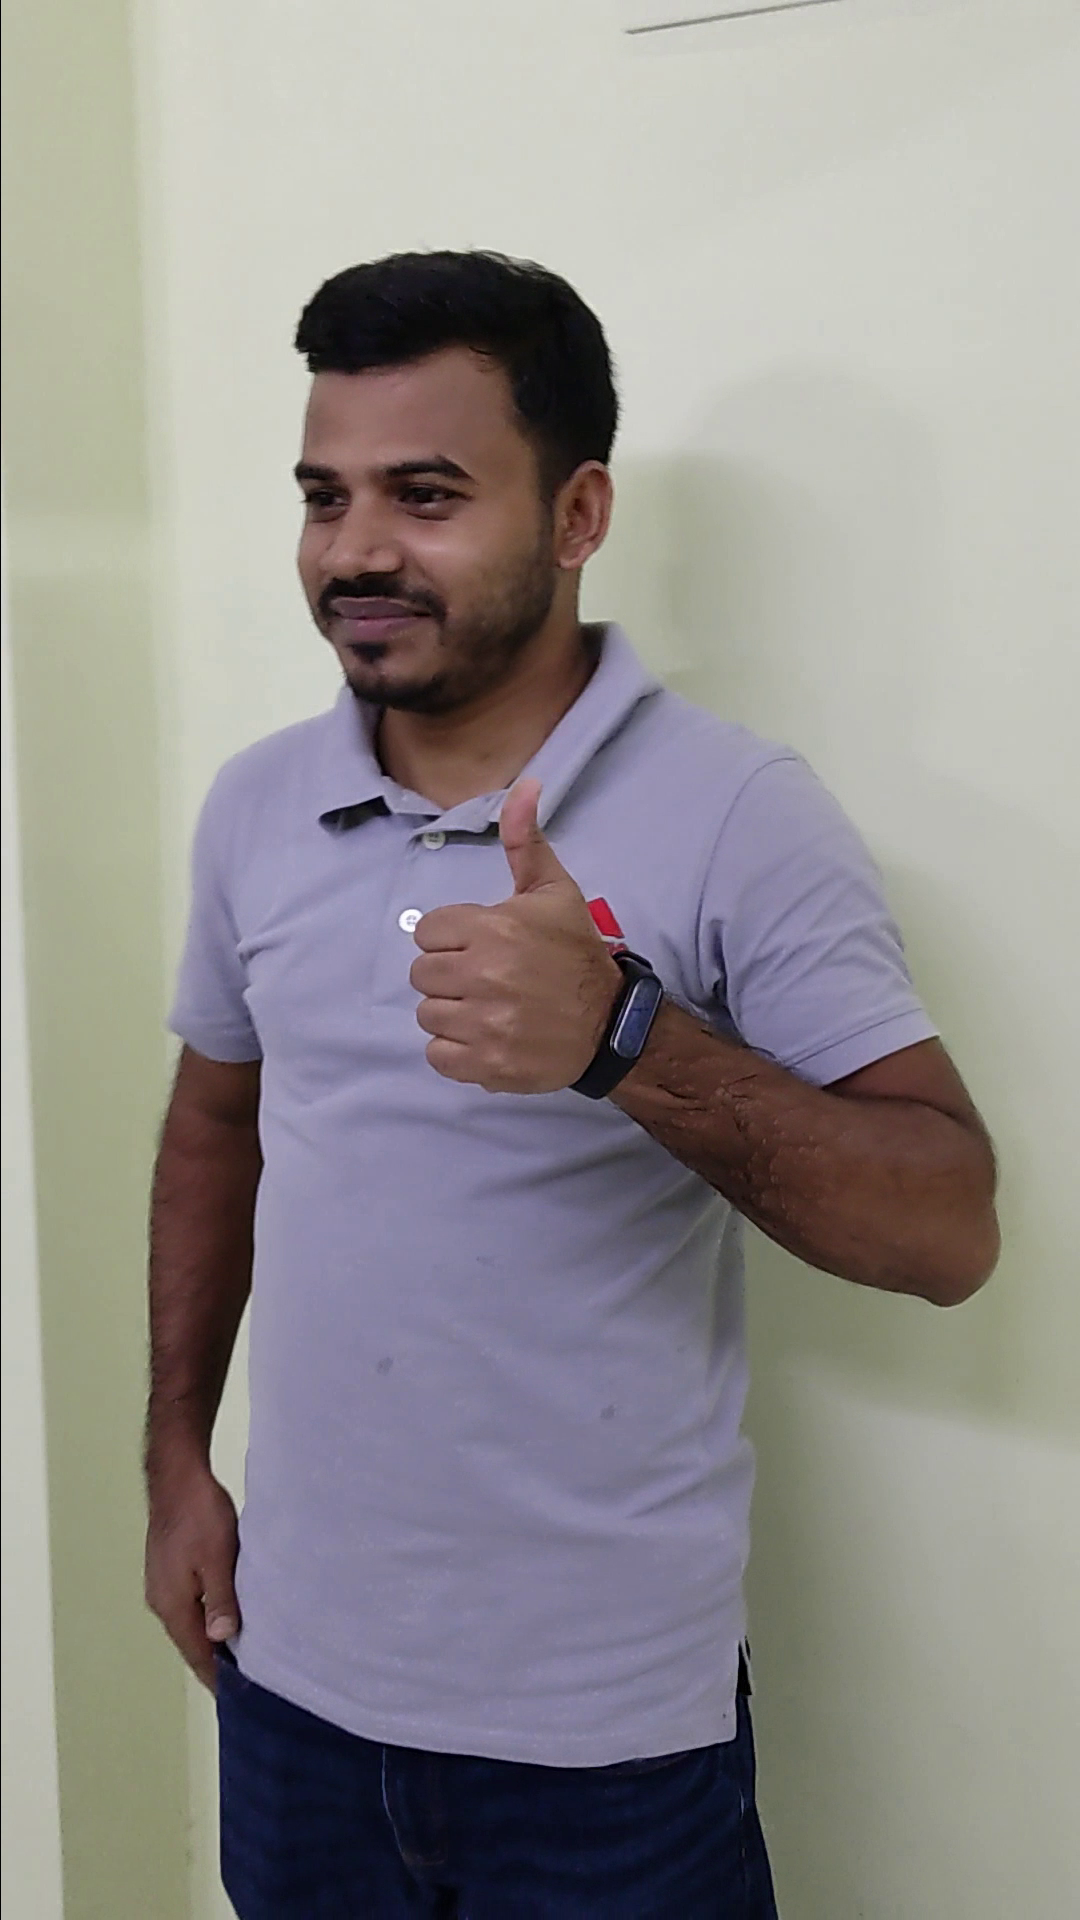Like: (402, 770, 642, 1106)
None: (108, 1425, 255, 1718)
